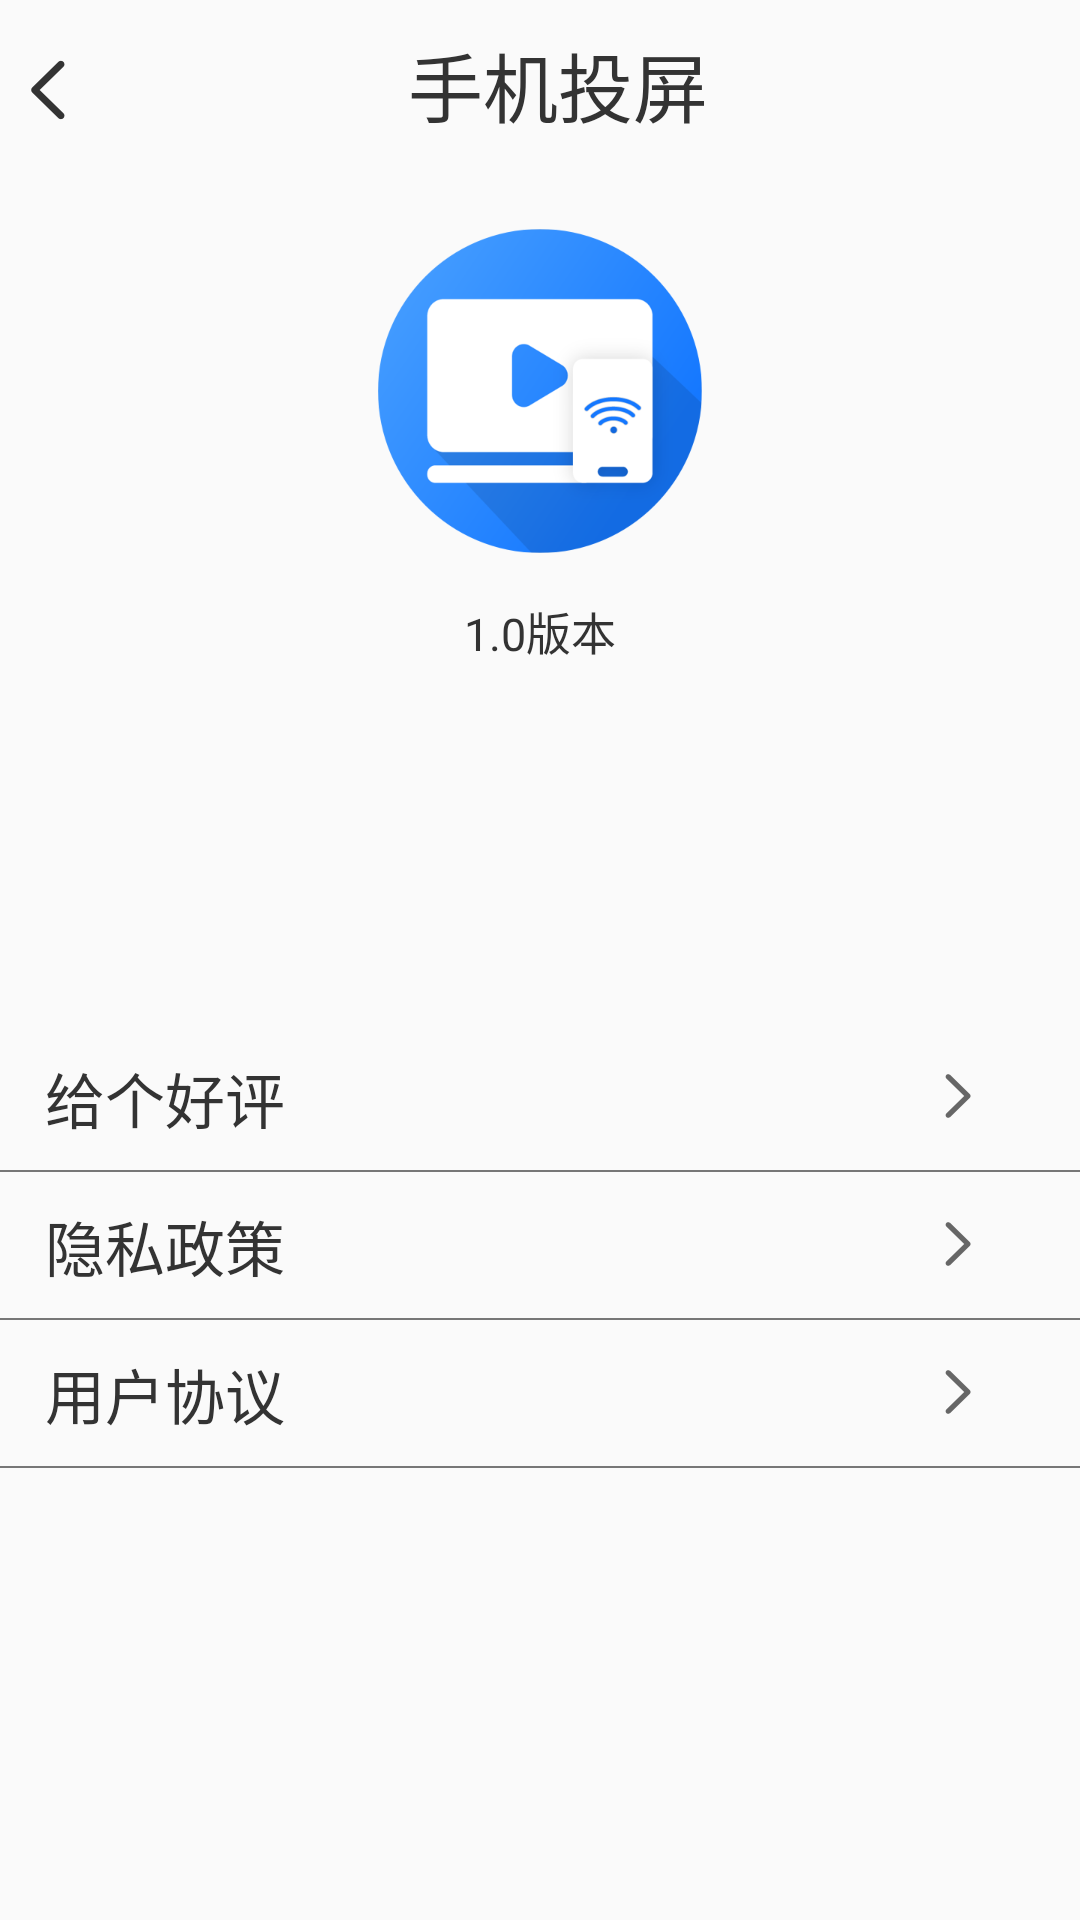

Locate icon controls on the screen. Image size 1080w x 1920h, boxes as bbox=(x1, y1, x2, y2).
setting back: bbox=(31, 61, 65, 119)
